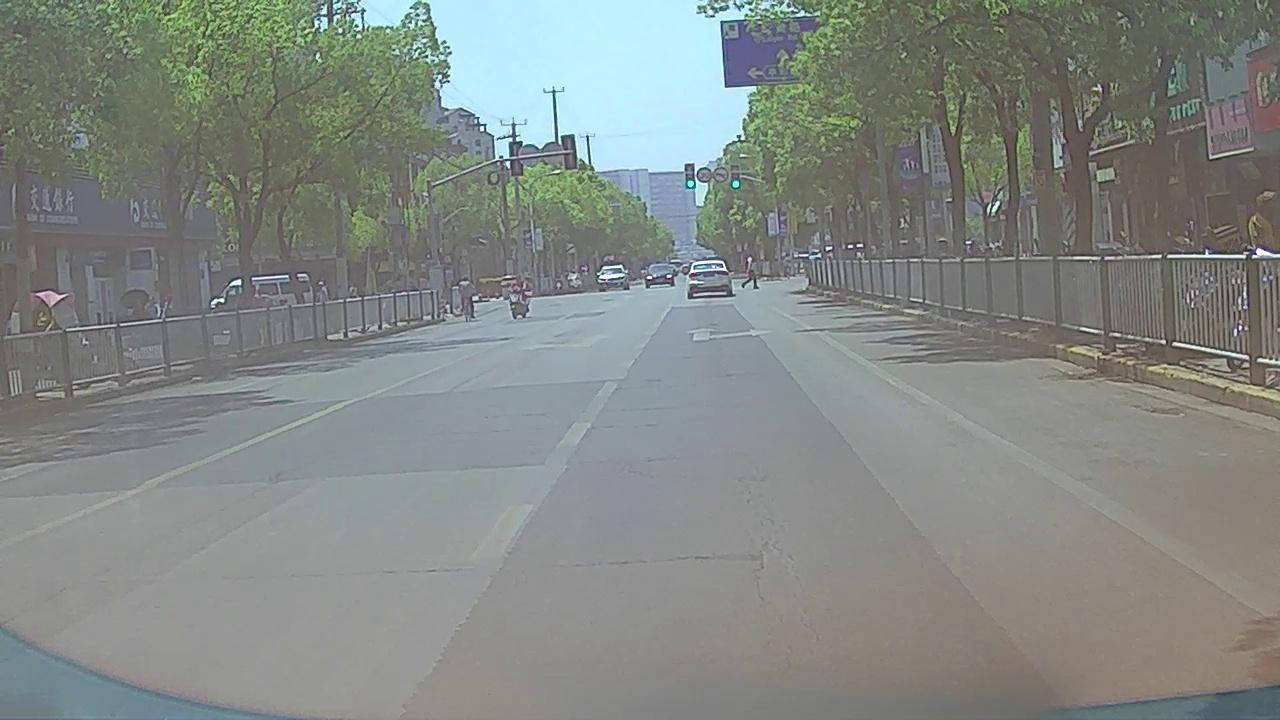traffic_light: (685, 163, 695, 189), (731, 164, 741, 190)
